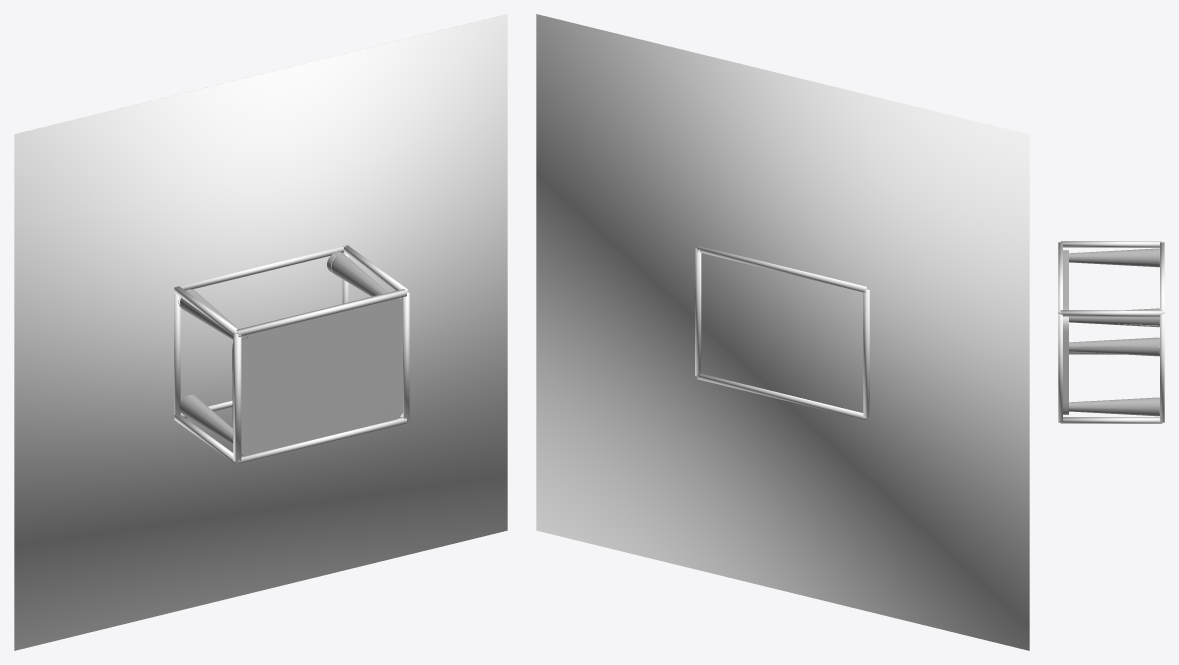
3 renders of one model, left to right at view 1: azimuth 30°, elevation 25°; view 2: azimuth 150°, elevation 25°; view 3: azimuth 270°, elevation 25°, orthographic. The views are drawn at different scales.
Bounding box in the file's own units: 2 × 2 × 0.4446.
